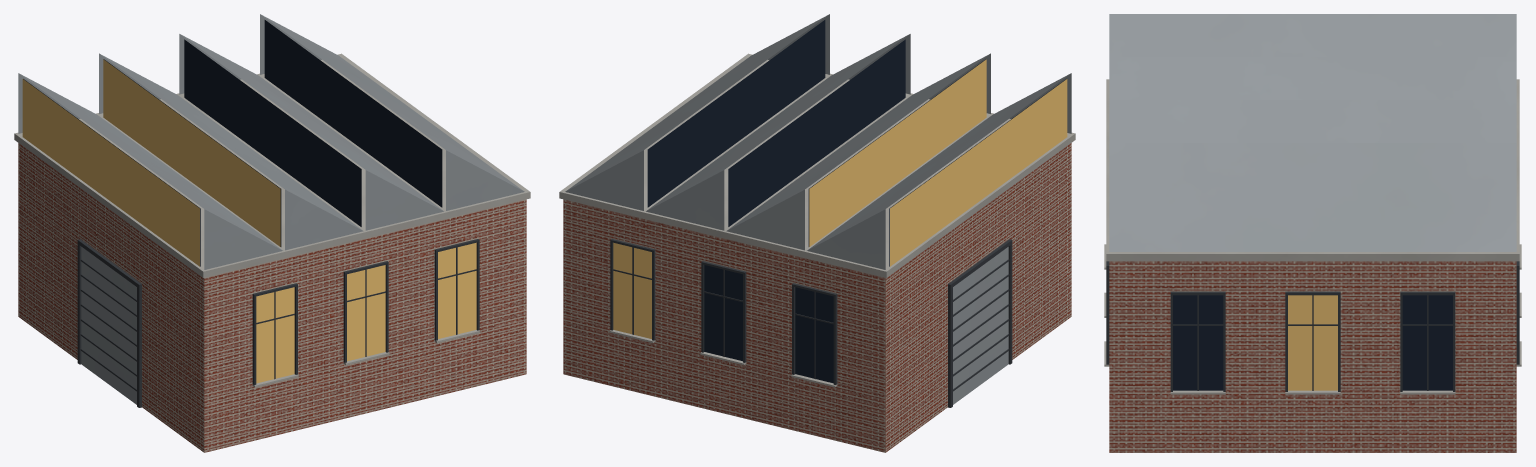
File: pv_hala_pilova.glb
3 views of the same model, side by side, from view 1: azimuth 30°, elevation 25°; view 2: azimuth 150°, elevation 25°; view 3: azimuth 270°, elevation 25° (orthographic). The views are drawn at different scales.
Visible parts, largest first — view 1: dum, noc; view 2: dum, noc; view 3: dum, noc.
Part boxes in pixels (box(x1,y1,x2,y2)): dum: box(14, 14, 530, 452); noc: box(22, 59, 476, 383); dum: box(559, 14, 1075, 452); noc: box(613, 59, 1067, 338); dum: box(1104, 14, 1521, 452); noc: box(1288, 295, 1337, 390).
Bounding box in the file's own units: 13.25 × 9.38 × 13.29.
Materials: 1 (1 with a texture image).
